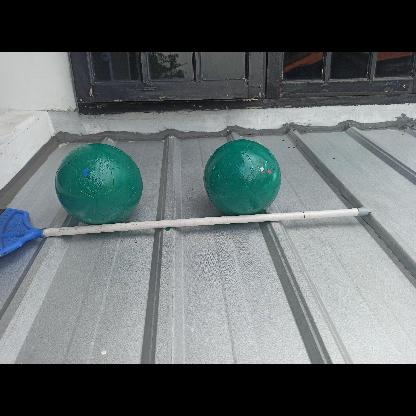green_ball: (58, 140, 142, 226), (206, 138, 283, 214)
